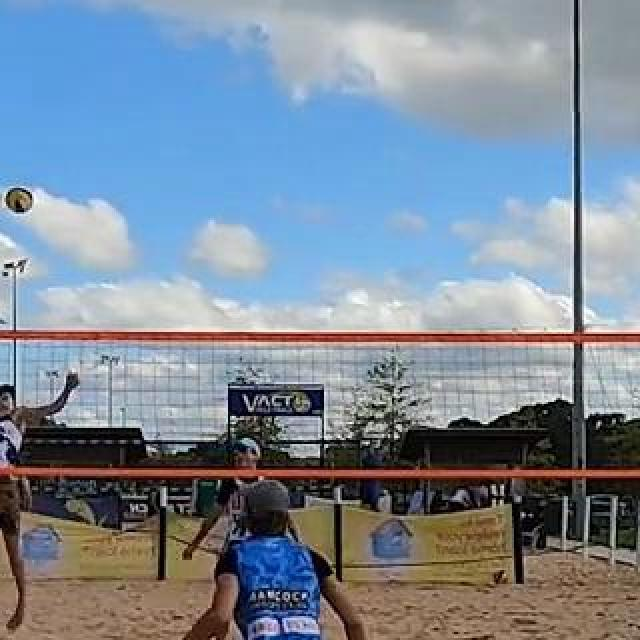volleyball: (5, 187, 35, 215), (492, 567, 510, 587)
